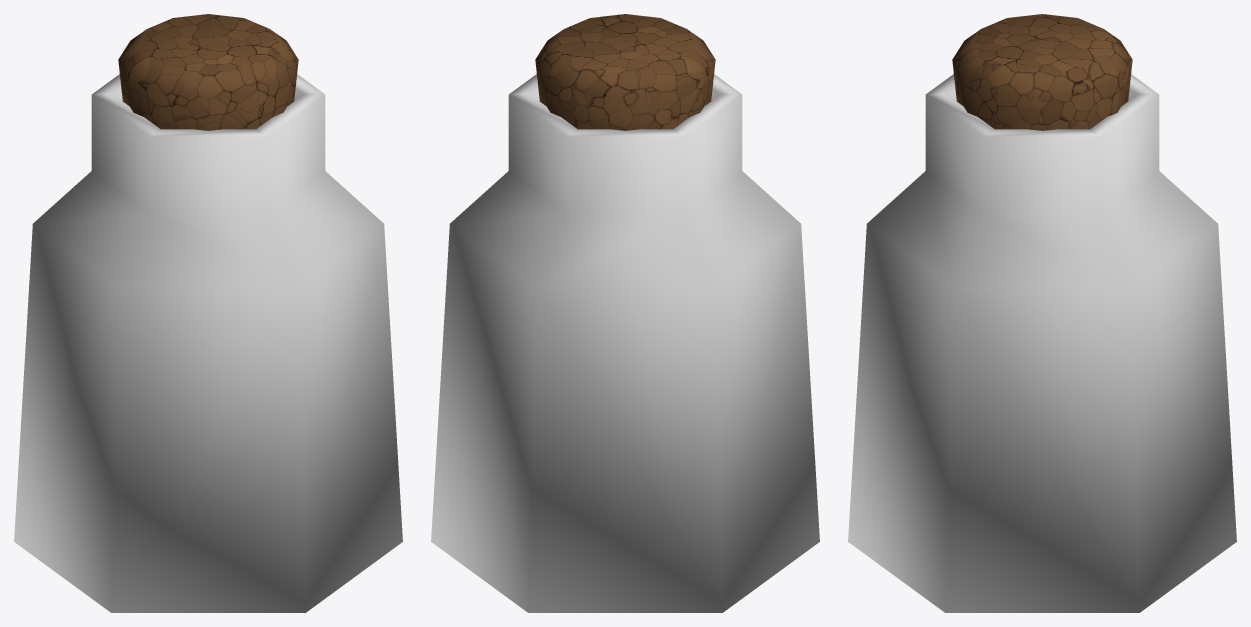
The model's file is Bottle.fbx.
3 renders of one model, left to right at view 1: azimuth 30°, elevation 25°; view 2: azimuth 150°, elevation 25°; view 3: azimuth 270°, elevation 25°, orthographic.
Visible parts, largest first — view 1: Glass, Cork; view 2: Glass, Cork; view 3: Glass, Cork.
Boxes of the visible parts, bbox=[...] form: Glass: bbox=[14, 74, 402, 612]; Cork: bbox=[118, 14, 298, 130]; Glass: bbox=[431, 74, 819, 612]; Cork: bbox=[535, 14, 715, 130]; Glass: bbox=[848, 74, 1236, 612]; Cork: bbox=[952, 14, 1132, 130].
Size of the model in its own units: 173 by 282 by 200.
